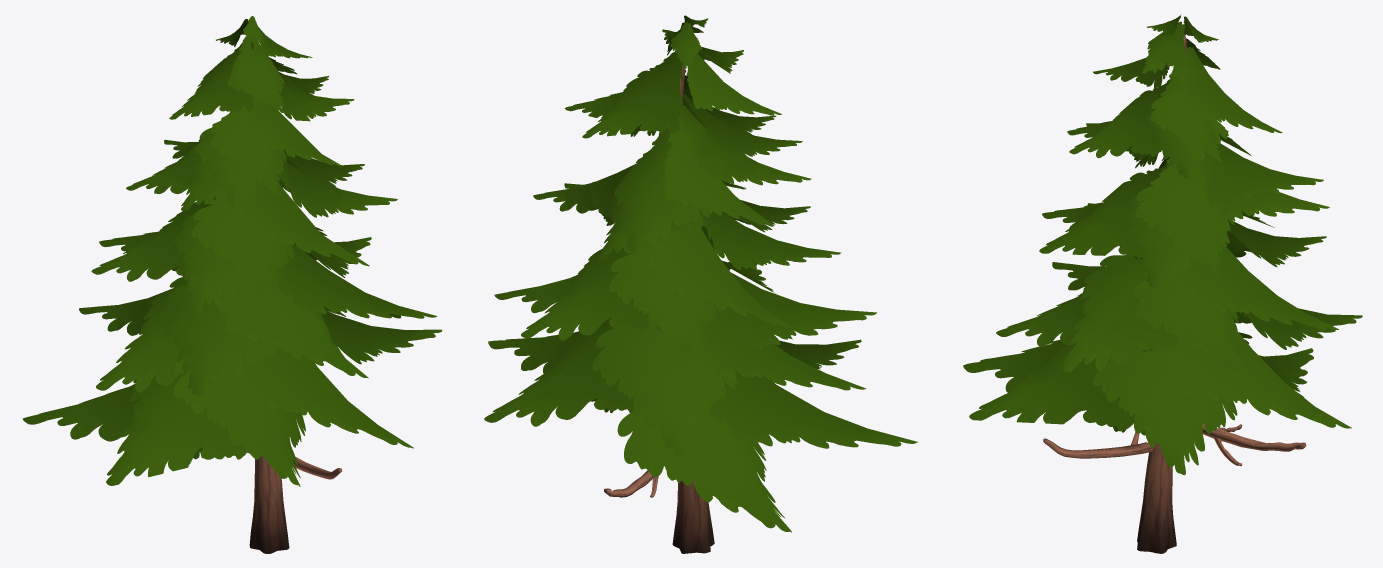
Rendered from pine-2.glb.
The picture shows the model from 3 angles, left to right: view 1: azimuth 30°, elevation 25°; view 2: azimuth 150°, elevation 25°; view 3: azimuth 270°, elevation 25°; orthographic projection. The views are drawn at different scales.
Visible parts, largest first — view 1: Pine_2; view 2: Pine_2; view 3: Pine_2.
Part boxes in pixels (x1,y1,x2,y2): Pine_2: [22, 16, 442, 553]; Pine_2: [484, 15, 917, 553]; Pine_2: [963, 14, 1362, 553].
Bounding box in the file's own units: 5.73 × 7.38 × 5.22.
2 materials, 2 textured.
